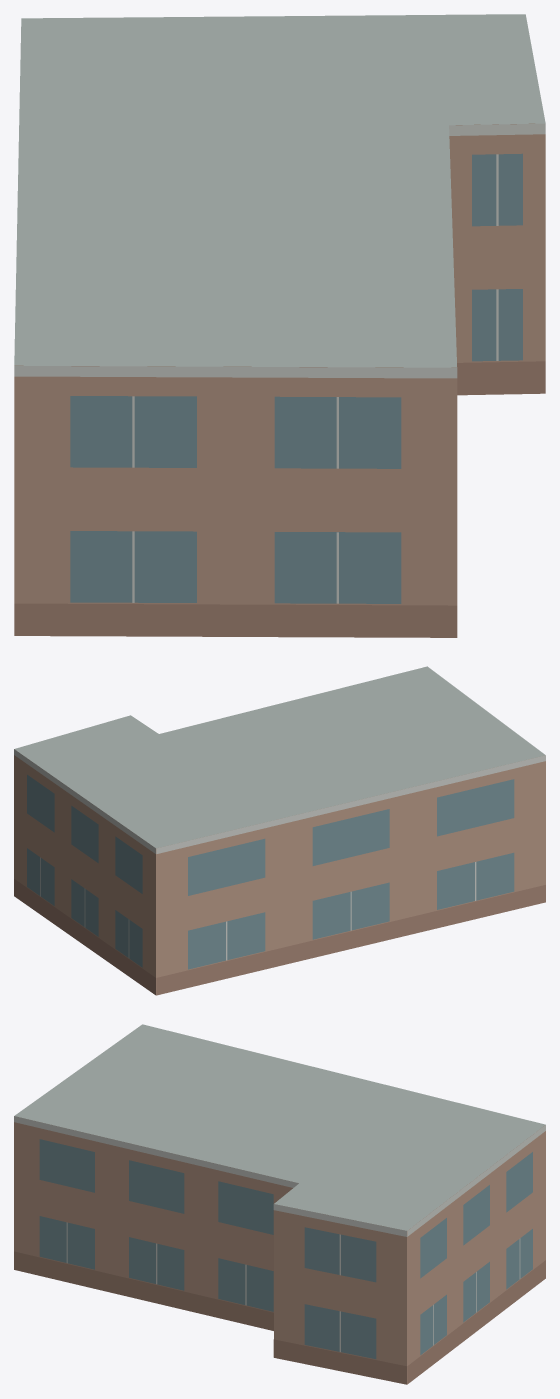
The model's file is survey-upis-32870611.glb.
3 views of the same model, one above another, from view 1: azimuth 30°, elevation 25°; view 2: azimuth 150°, elevation 25°; view 3: azimuth 270°, elevation 25° (orthographic). The views are drawn at different scales.
Parts seen in each view (by area): view 1: survey-upis-32870611.tmp; view 2: survey-upis-32870611.tmp; view 3: survey-upis-32870611.tmp.
Boxes of the visible parts, x1,y1,x2,y2 form: survey-upis-32870611.tmp: (14,14,545,637); survey-upis-32870611.tmp: (14,666,545,995); survey-upis-32870611.tmp: (14,1024,545,1384).
Bounding box in the file's own units: 17.59 × 6.1 × 19.13.
